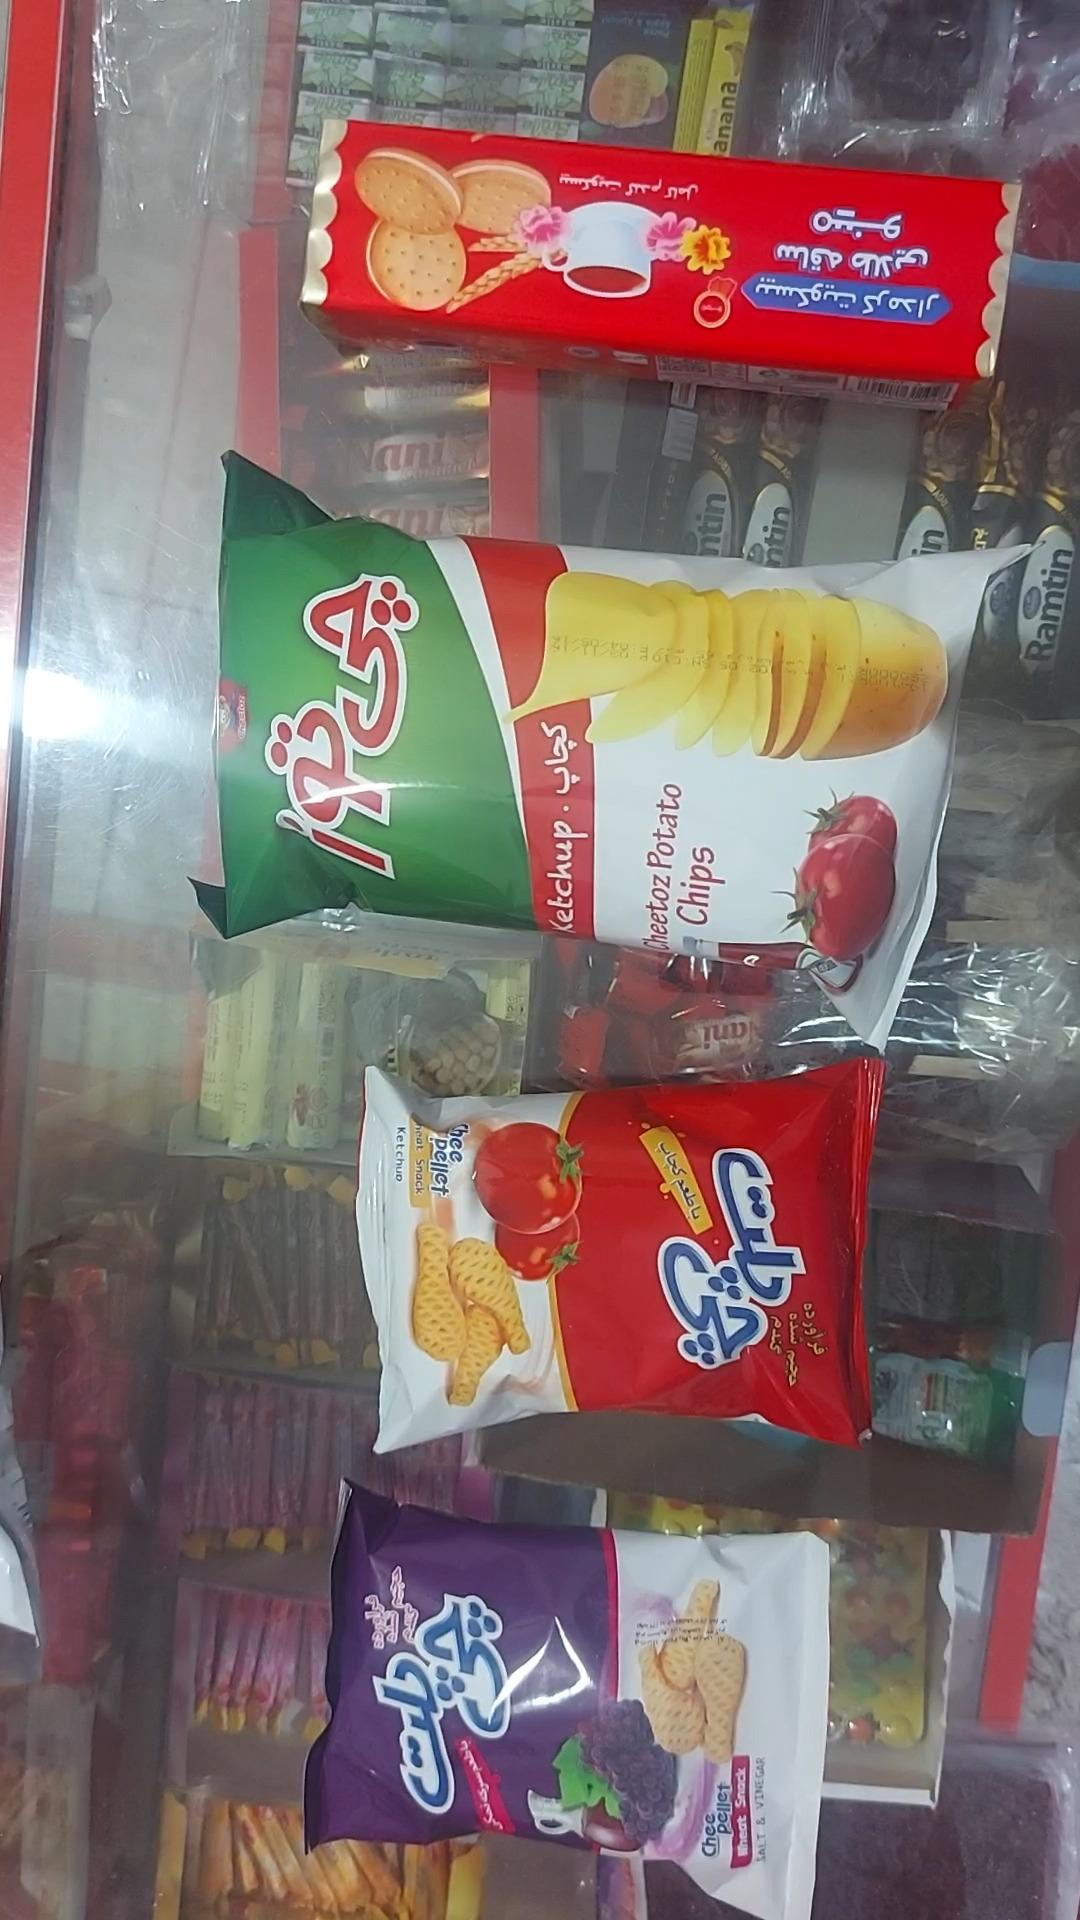Chee pellet ketchup: (355, 1060, 887, 1456)
Chee pellet vinegar: (305, 1484, 831, 1919)
Cheetoz ketchup chips: (191, 454, 1033, 1052)
Minoo cream biscuit: (295, 119, 1021, 405)
